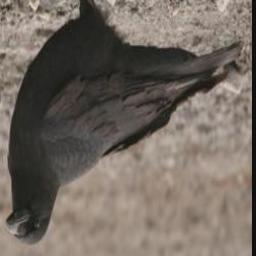Crow: (6, 0, 245, 249)
